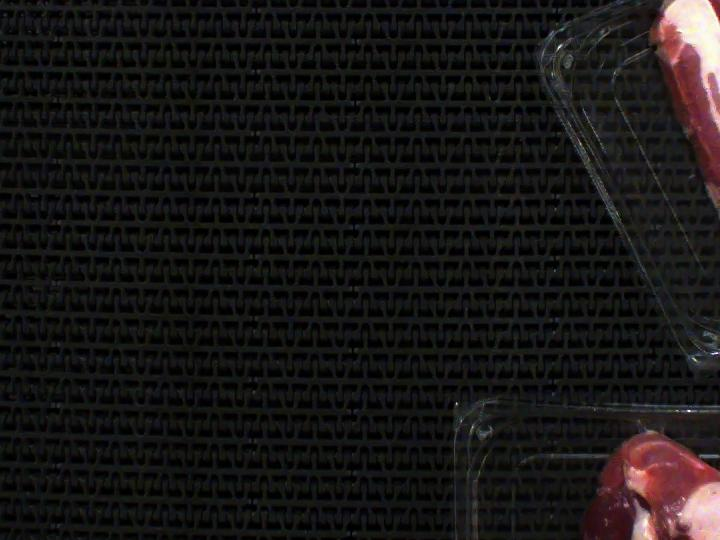packaging-error: (629, 411, 668, 437)
